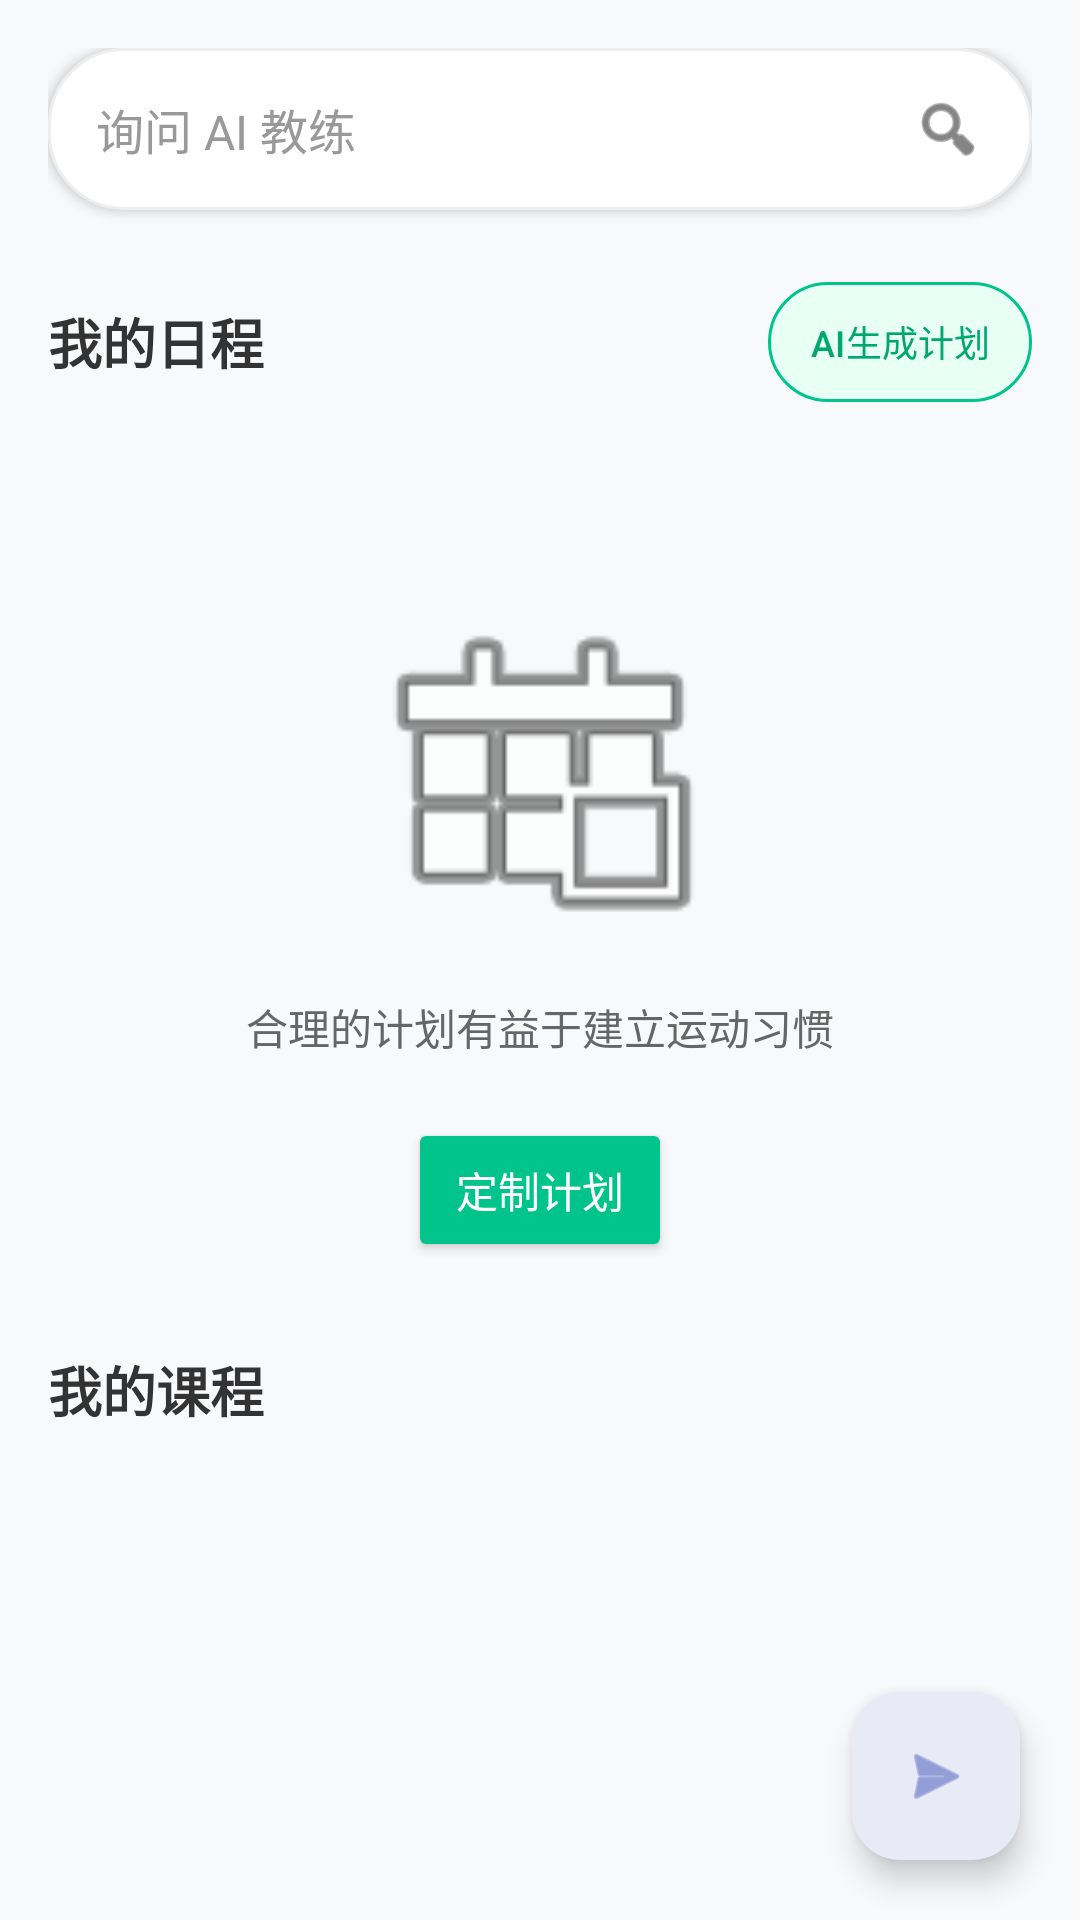

Point at icon controls on the screen. Image size 1080x1920, points as point (x, y).
search: point (948, 129)
send: point (937, 1776)
today: point (543, 773)
